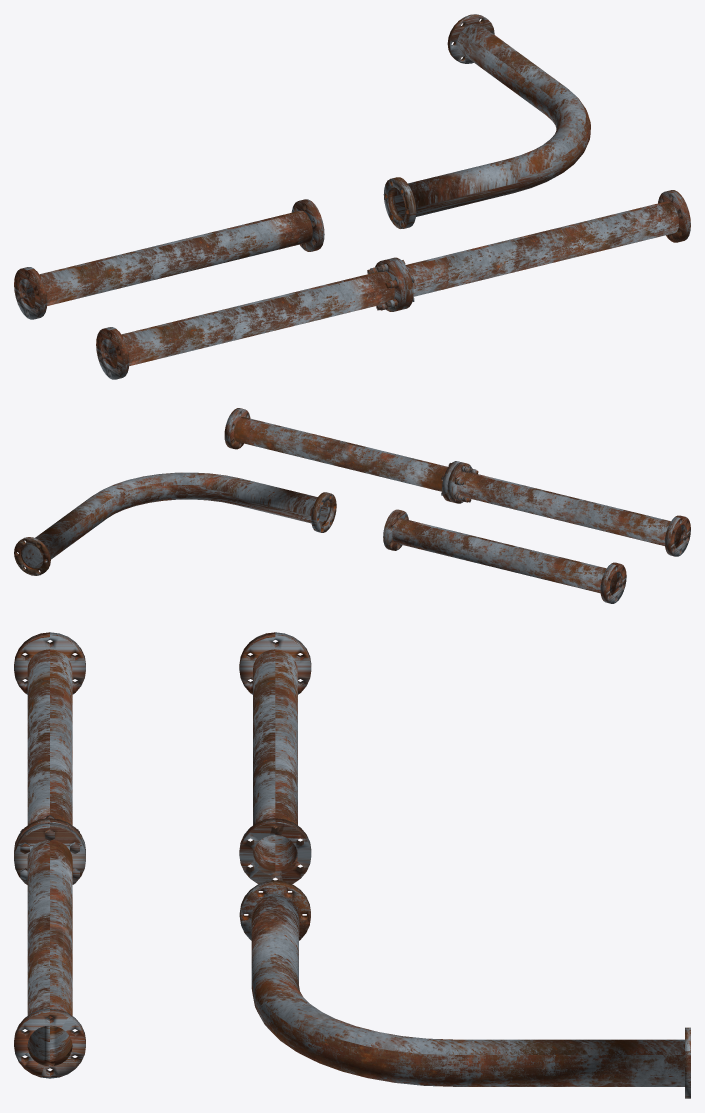
Rendered from MetalPipes.glb.
3 renders of one model, top to bottom at view 1: azimuth 30°, elevation 25°; view 2: azimuth 150°, elevation 25°; view 3: azimuth 270°, elevation 25°, orthographic. The views are drawn at different scales.
Parts seen in each view (by area): view 1: Plane.001, Plane; view 2: Plane.001, Plane; view 3: Plane.001, Plane.
Part boxes in pixels (x1,y1,x2,y2): Plane.001: (14,190,690,379); Plane: (383,14,590,228); Plane.001: (224,408,690,603); Plane: (14,472,336,575); Plane.001: (14,632,311,1078); Plane: (239,880,690,1098).
Size of the model in its own units: 10.85 by 0.8 by 7.51.
Materials: 1 (1 with a texture image).
